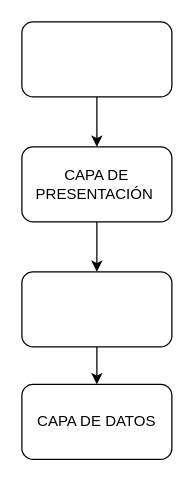
Some shapes in this 194 by 481 pixel diagram are drawn without their labels. The shapes that lost their labels are listed below. From the top down, each one's centre as x and y in pixels, then its label:
the point at 96,59: USUARIO
the point at 96,309: CAPA DE LÓGICA DE NEGOCIO
